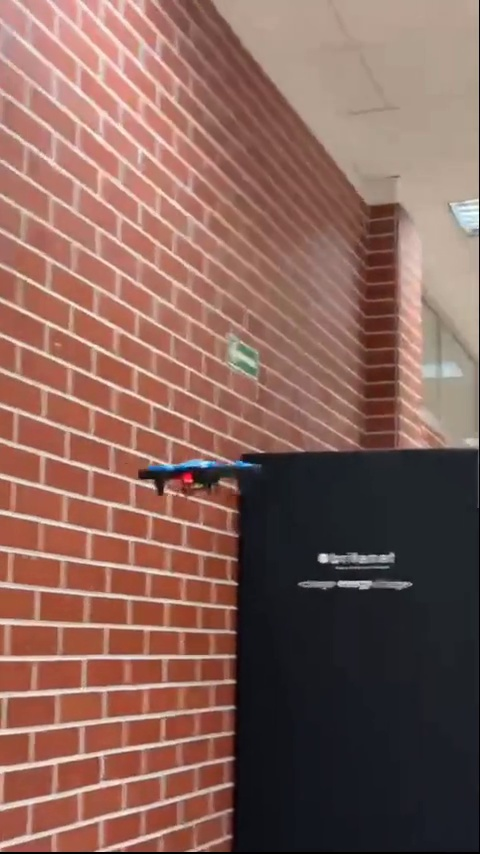drone: (138, 455, 260, 495)
